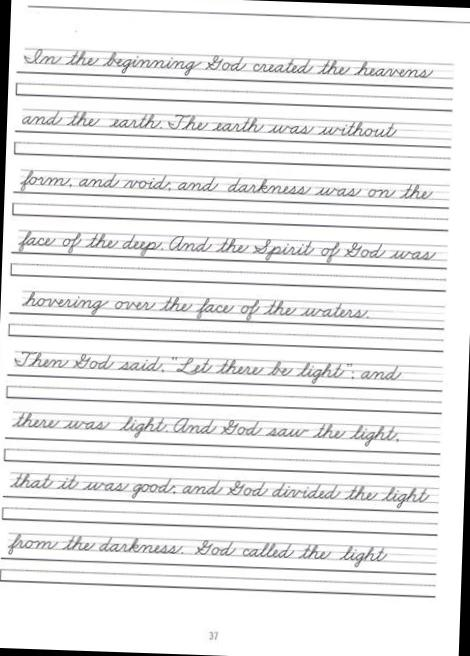text: (14, 228, 440, 269), (18, 166, 436, 207), (8, 470, 433, 510), (9, 408, 402, 450), (22, 47, 437, 86), (3, 530, 390, 569), (11, 350, 404, 388), (20, 288, 372, 325), (19, 106, 400, 140), (206, 628, 220, 643)
